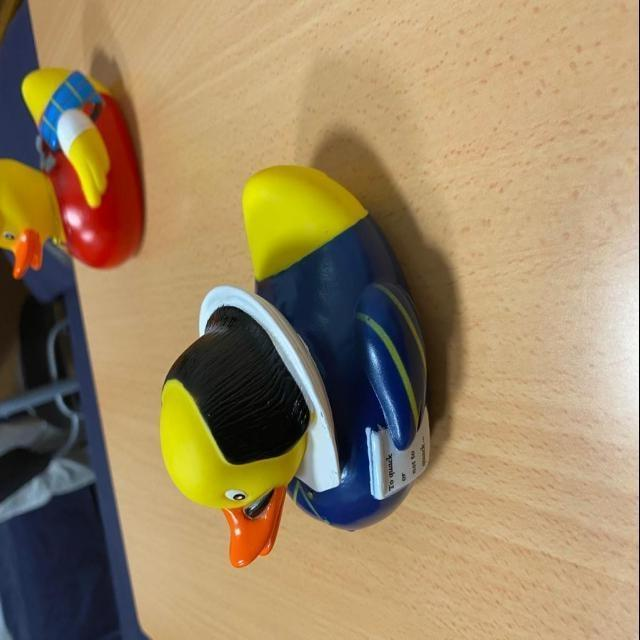rubber-duck: (159, 165, 428, 563), (0, 67, 141, 276)
